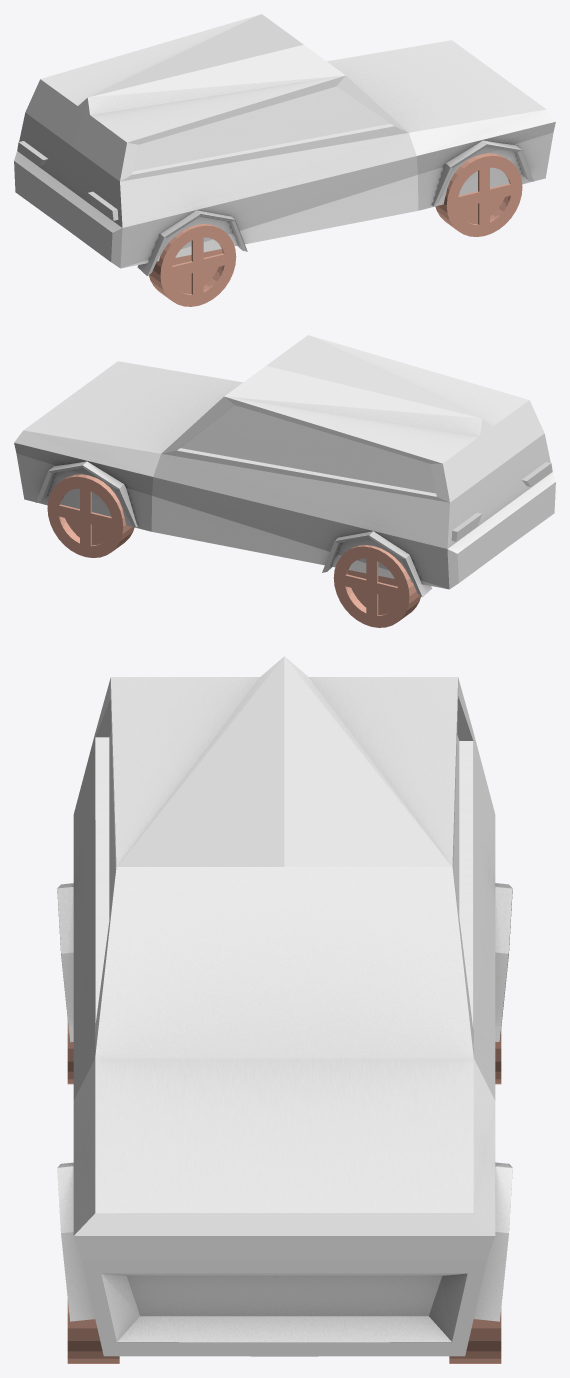
Rendered from TestCarV10.gltf.
3 renders of one model, top to bottom at view 1: azimuth 30°, elevation 25°; view 2: azimuth 150°, elevation 25°; view 3: azimuth 270°, elevation 25°, orthographic. The views are drawn at different scales.
Visible parts, largest first — view 1: body, body.glass, wheel_RR, wheel_FR, body.lights_rear; view 2: body, body.glass, wheel_RL, wheel_FL, body.lights_rear; view 3: body, body.glass, wheel_FR, wheel_FL.
Part boxes in pixels (x1,y1,x2,y2): body: [14, 14, 555, 275]; body.glass: [132, 86, 390, 171]; wheel_RR: [148, 224, 236, 306]; wheel_FR: [435, 153, 522, 236]; body.lights_rear: [17, 141, 118, 220]; body: [14, 335, 555, 597]; body.glass: [181, 405, 435, 493]; wheel_RL: [333, 545, 420, 627]; wheel_FL: [47, 474, 134, 557]; body.lights_rear: [451, 462, 552, 541]; body: [57, 656, 512, 1356]; body.glass: [109, 732, 459, 919]; wheel_FR: [67, 1299, 119, 1363]; wheel_FL: [449, 1309, 501, 1363].
Size of the model in its own units: 3.88 by 1.54 by 1.74.
Materials: 2 (1 with a texture image).
